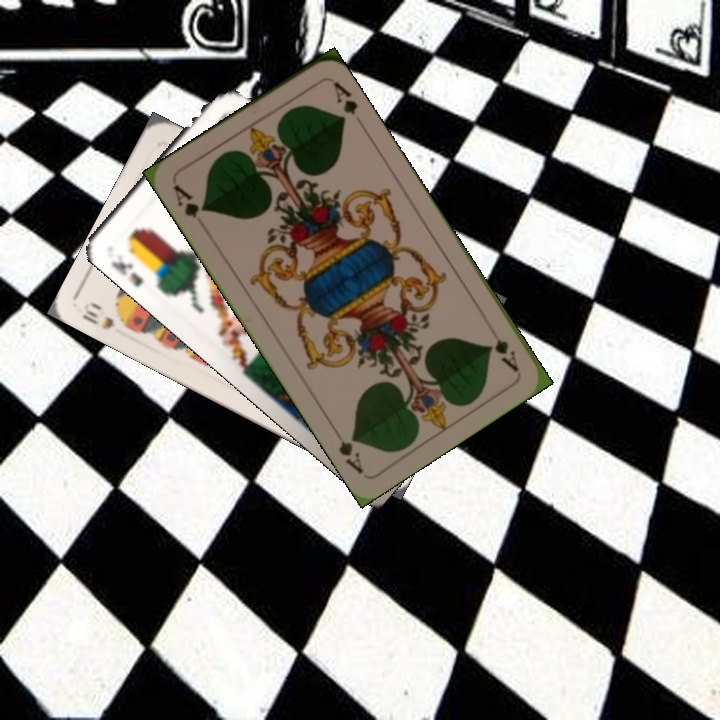EK: (107, 257, 146, 290)
GA: (169, 180, 210, 221), (487, 335, 521, 375)
S10: (77, 297, 133, 333)
